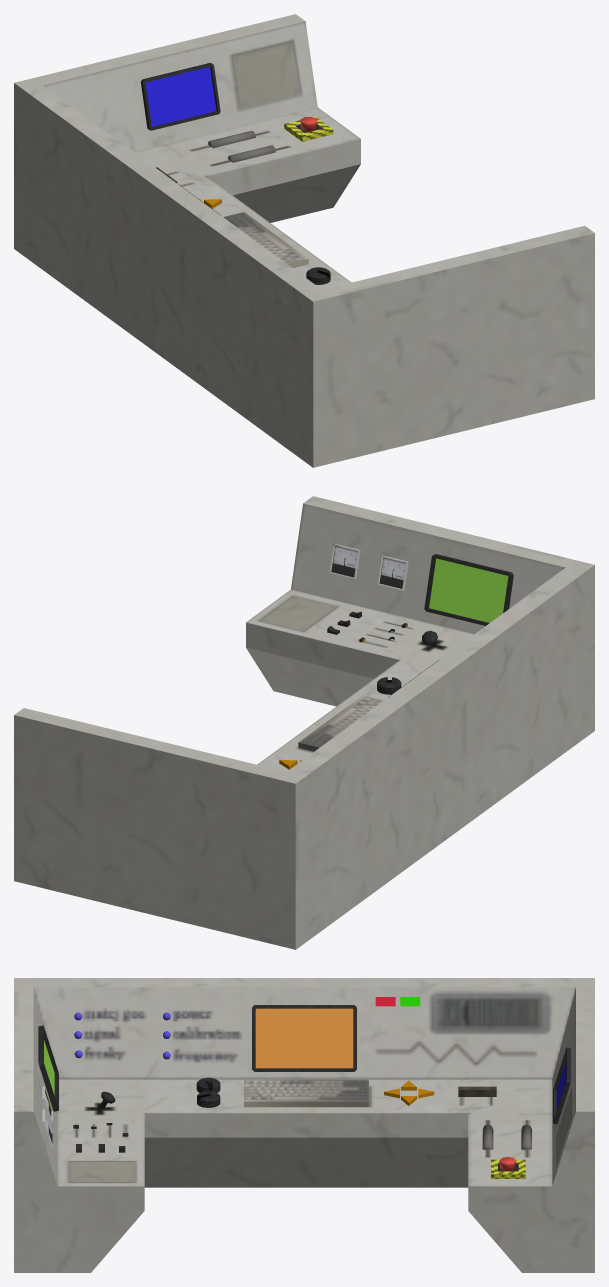
File: radio_panel.glb
3 views of the same model, one above another, from view 1: azimuth 30°, elevation 25°; view 2: azimuth 150°, elevation 25°; view 3: azimuth 270°, elevation 25° (orthographic). The views are drawn at different scales.
Parts seen in each view (by area): view 1: ControlPanel; view 2: ControlPanel; view 3: ControlPanel.
Boxes of the visible parts, bbox=[...] form: ControlPanel: bbox=[14, 14, 594, 467]; ControlPanel: bbox=[14, 496, 594, 949]; ControlPanel: bbox=[14, 978, 594, 1272].
Size of the model in its own units: 1.6 by 0.9035 by 2.95.
9 materials, 1 textured.
